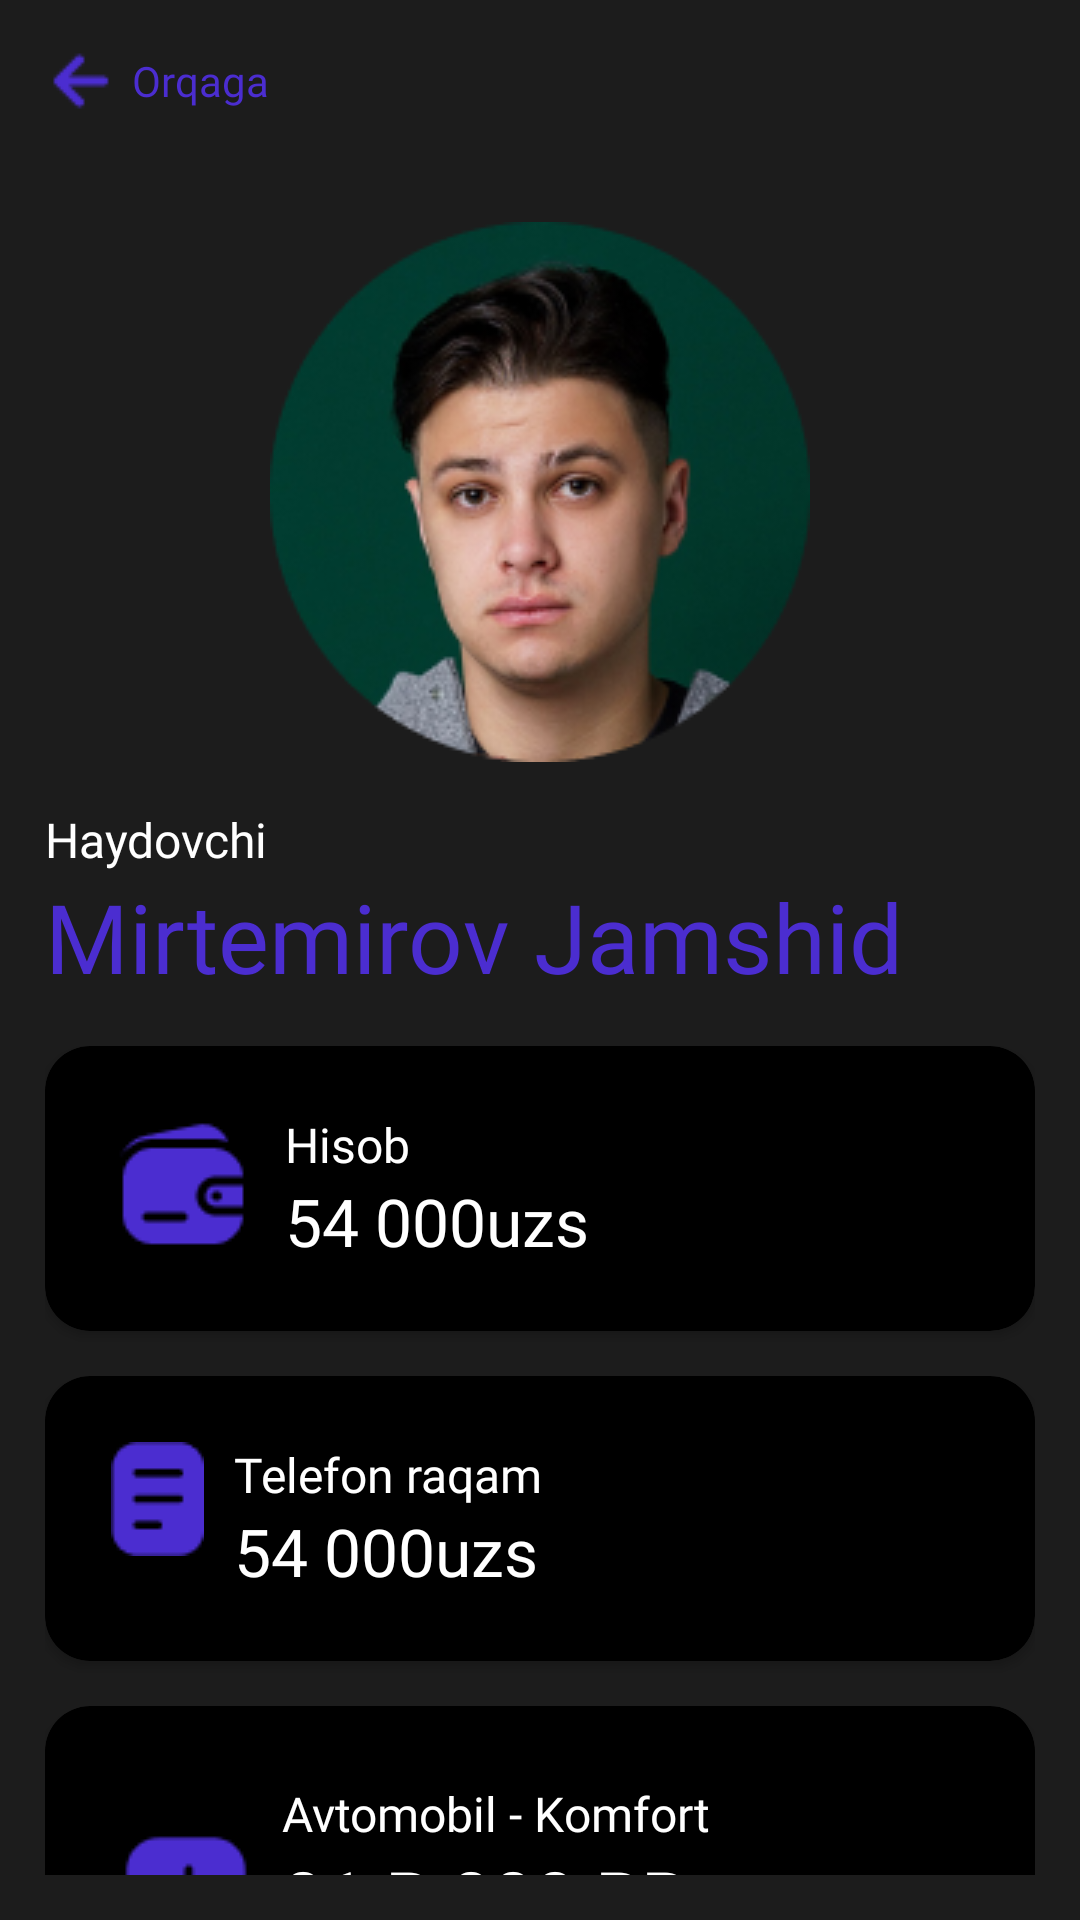

Locate icon controls on the screen. Image size 1080 x 1920, boxes as (x1, y1, x2, y2).
arrow left: (53, 53, 109, 109)
note: (111, 1442, 204, 1556)
